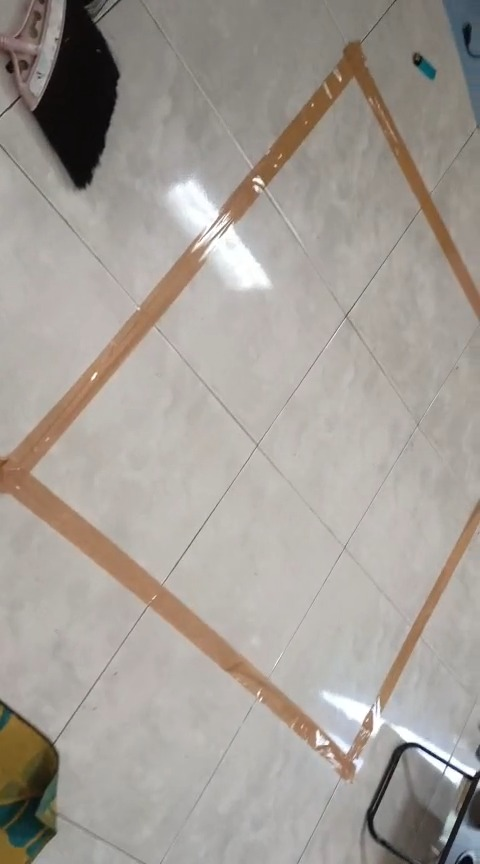floor marking: (0, 43, 479, 778)
